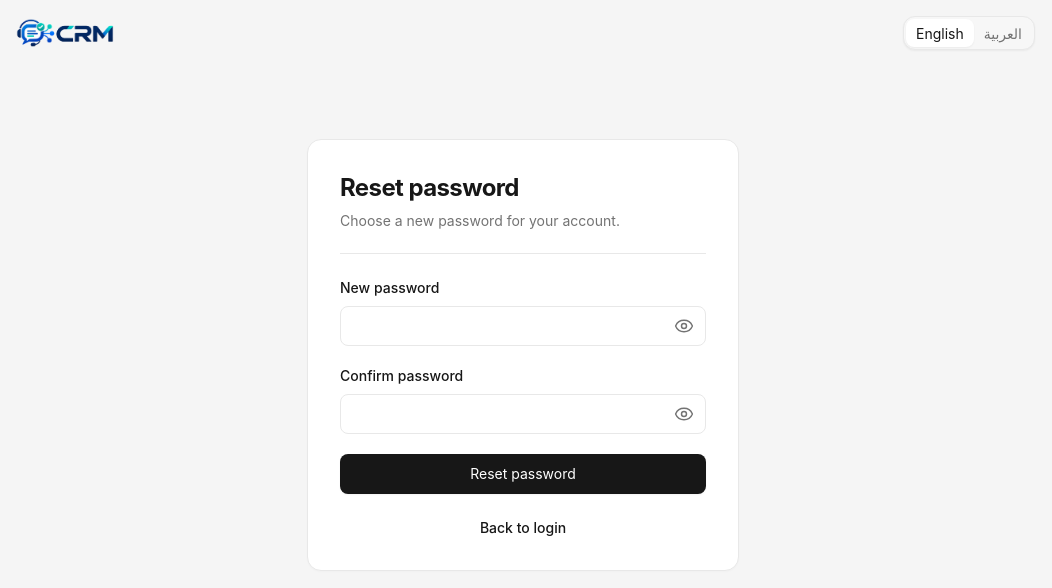
Test case: ResetPasswordPage › shows the invalid-link panel when the token is rejected
Type "newpassword1" into the password field labelled "New password".
click(523, 326); type("newpassword1")  # box x1=340 y1=306 x2=706 y2=346
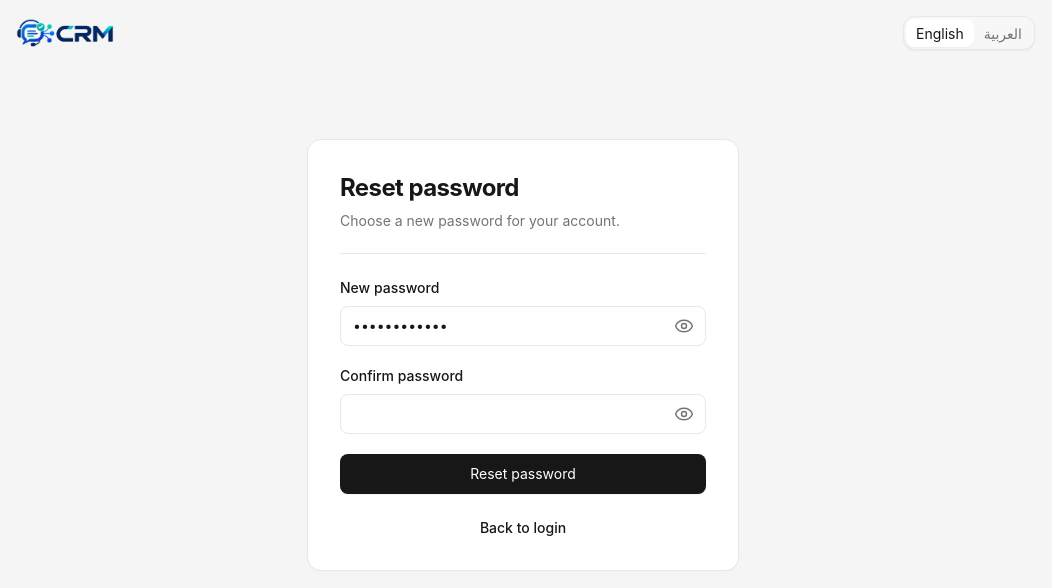
Type "newpassword1" into the password field labelled "Confirm password".
click(523, 414); type("newpassword1")  # box x1=340 y1=394 x2=706 y2=434
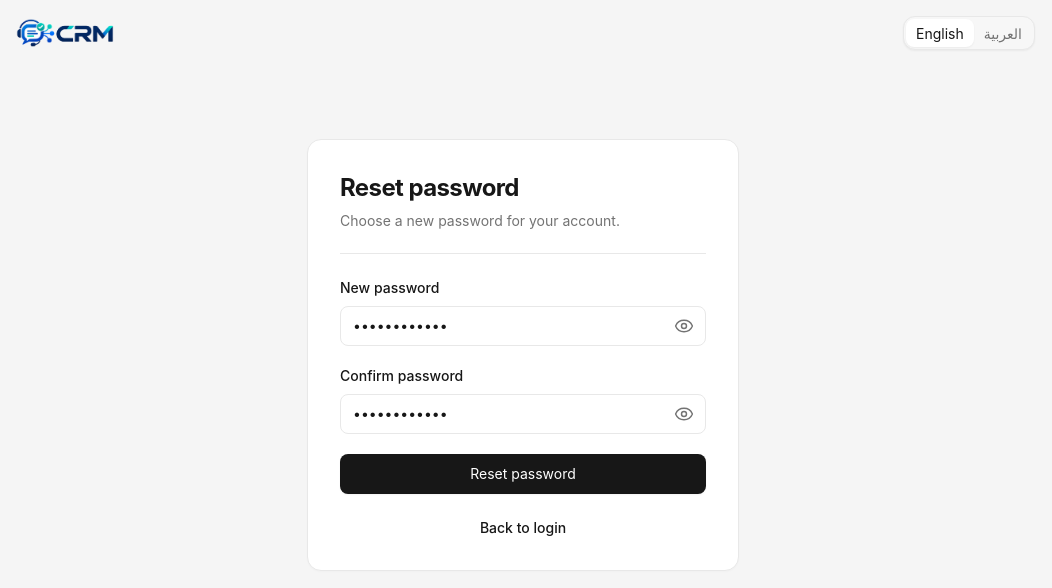
Click the button "Reset password".
click(523, 474)  # box x1=340 y1=454 x2=706 y2=494
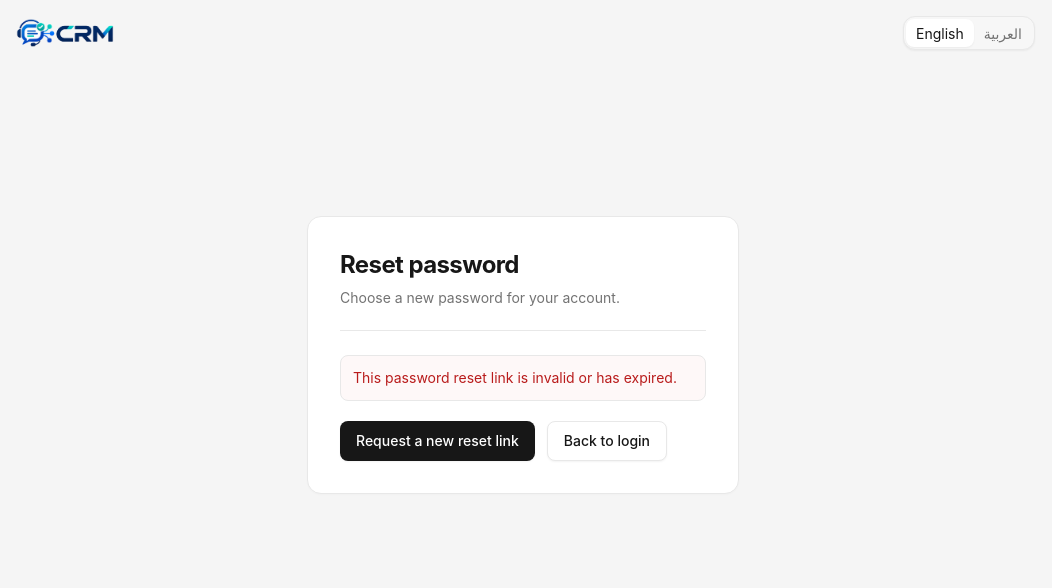
Now the text "This password reset link is invalid or has expired." is shown, box x1=340 y1=355 x2=706 y2=401
